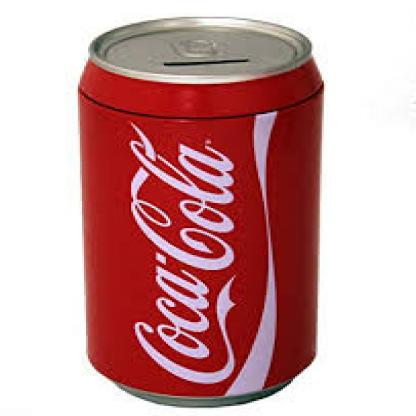METAL: (76, 17, 326, 409)
